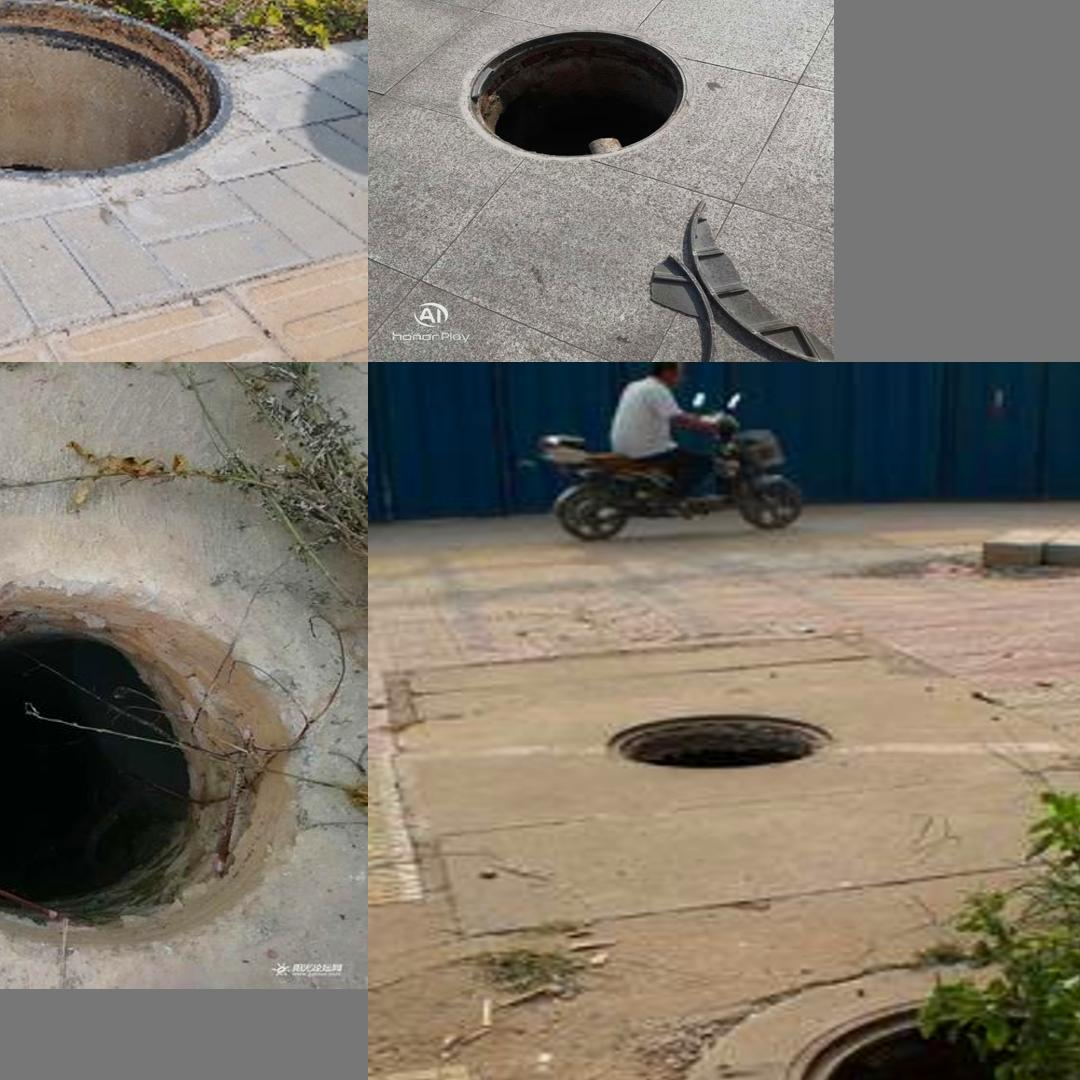lose: (0, 573, 306, 955), (704, 957, 1080, 1080), (0, 0, 232, 179), (460, 21, 708, 170), (588, 695, 859, 788)
